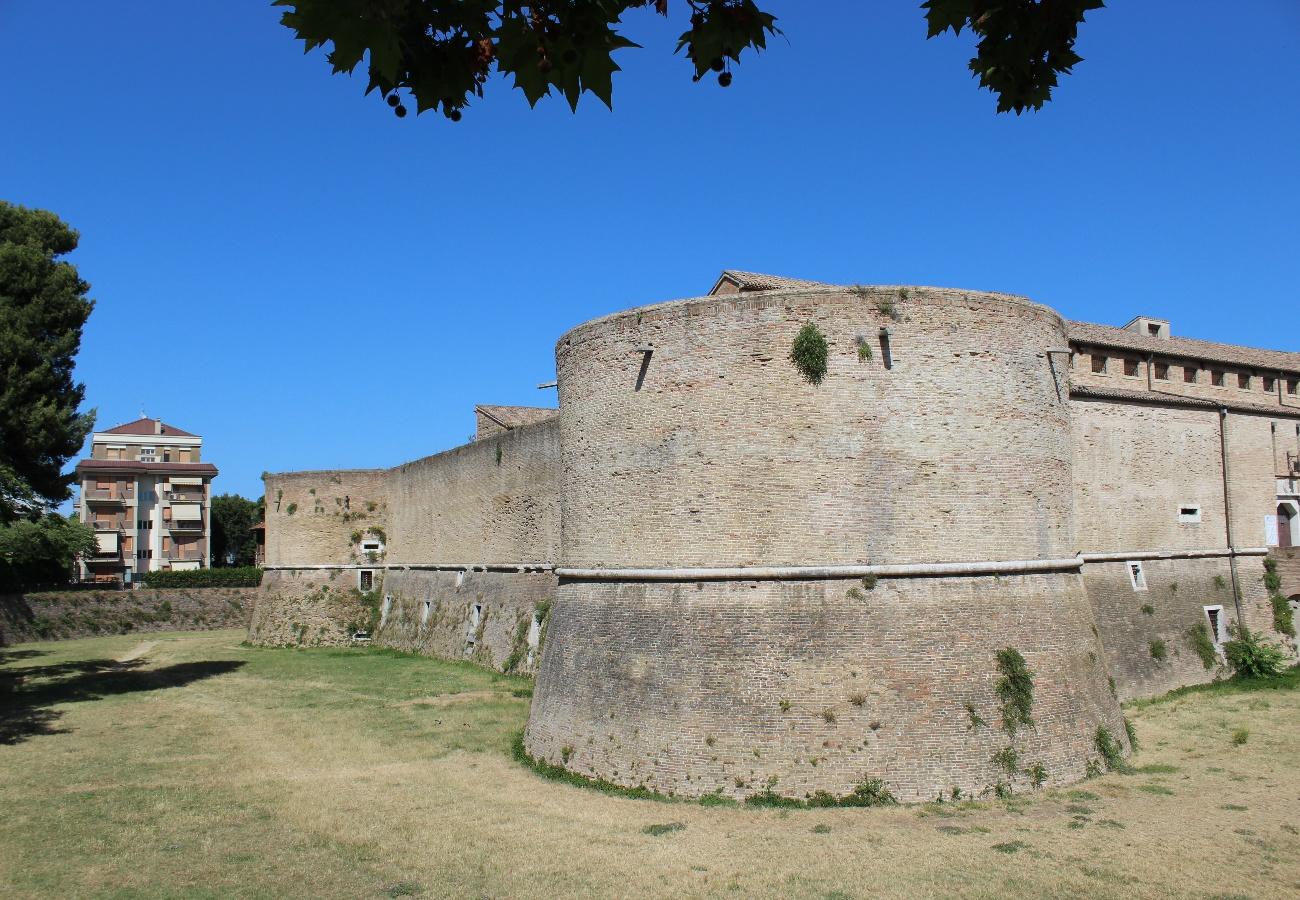Rocca Costanza: (261, 286, 1299, 798)
